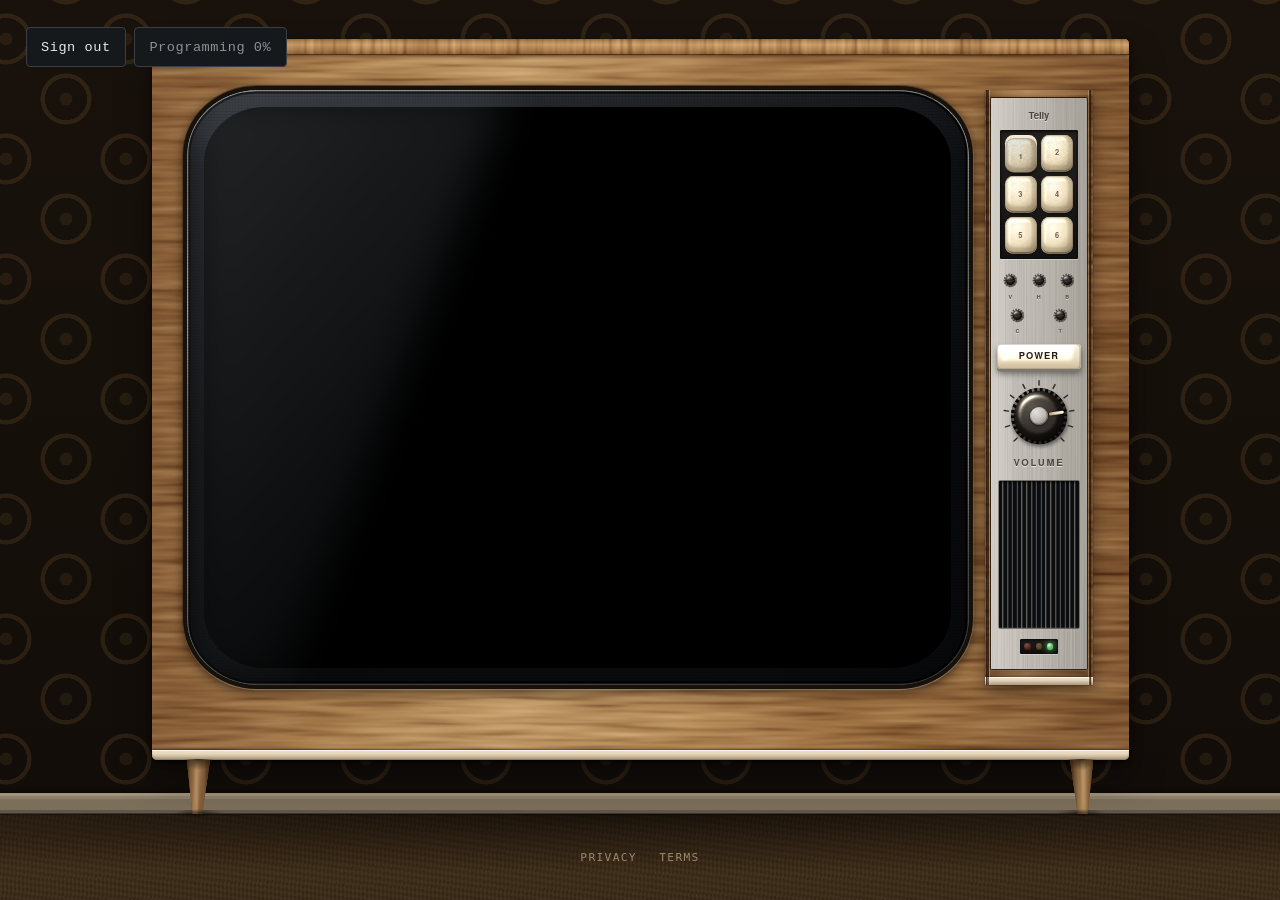
Channel › the Google session › keeps a load that lands after signing out off the screen
This screenshot has width=1280, height=900.
Click the button "Sign out" at [76, 47], box [26,27,126,67]
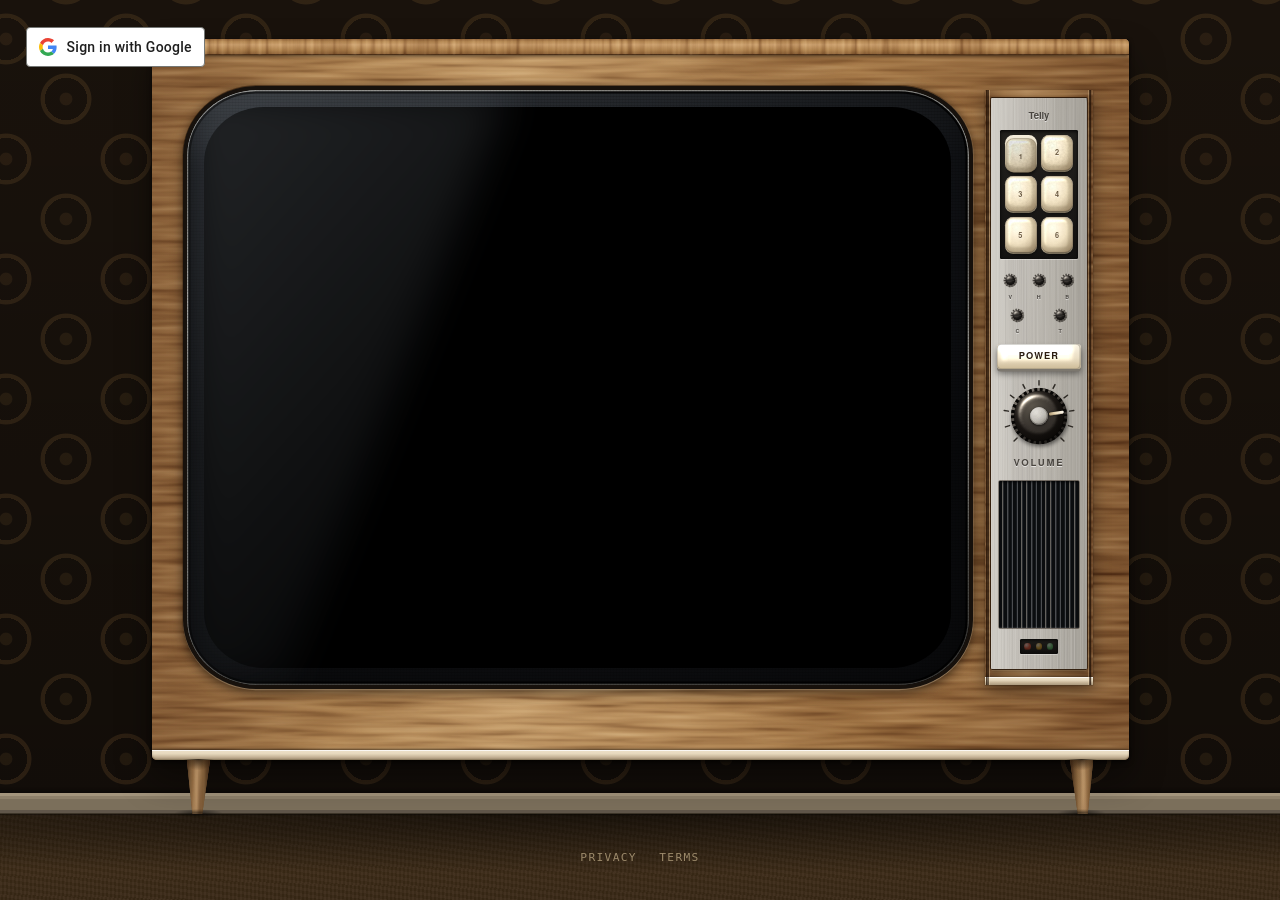
Expected: the button "Sign in with Google" is shown, [26,27,205,67]
Click the button "Power" at [1039, 356], box [997,344,1080,369]
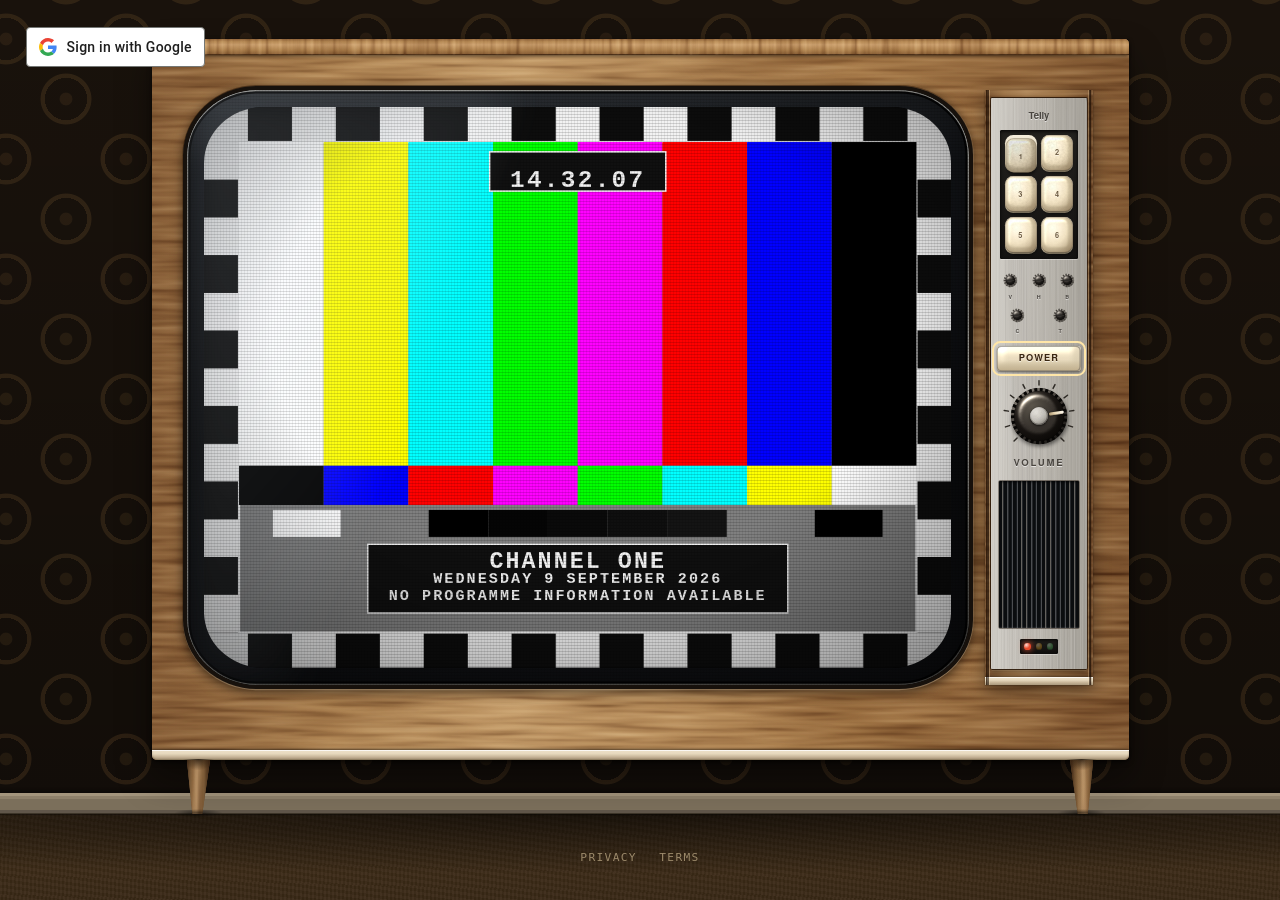
Expected: the element named "television" shows "NO PROGRAMME INFORMATION AVAILABLE", [389,587,767,605]
